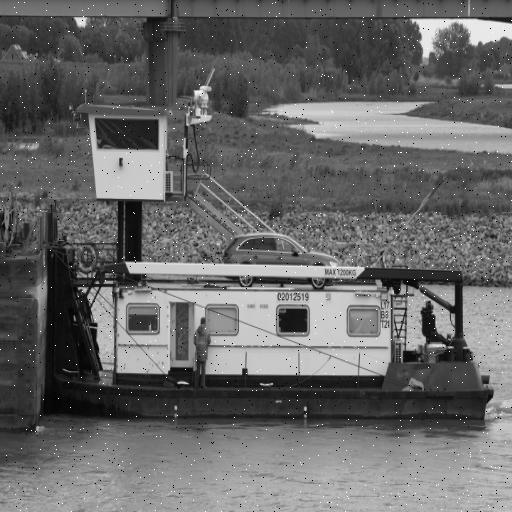tugboat: (40, 67, 502, 441)
